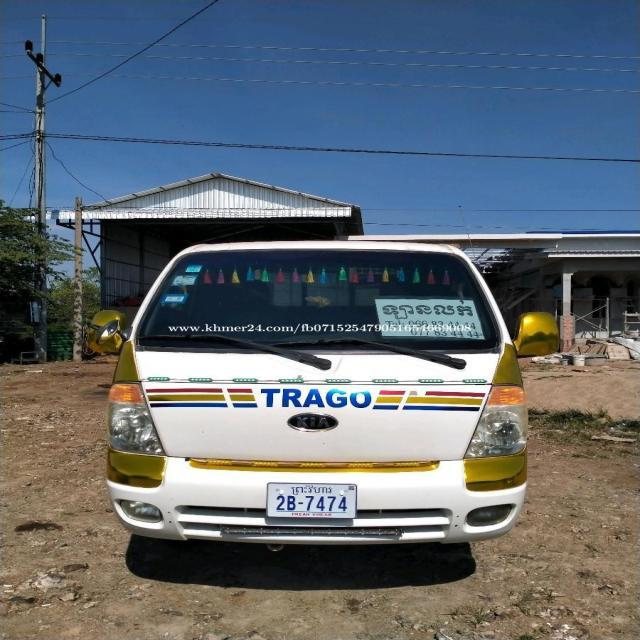Preah_Vihear: (290, 483, 334, 496)
